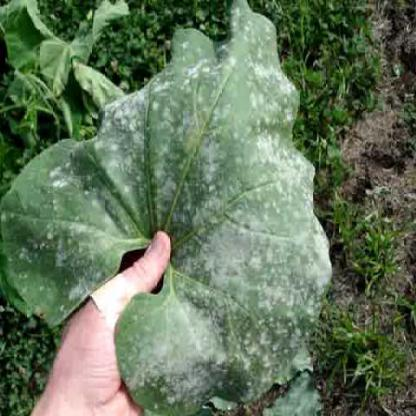Squash Powdery mildew leaf: (11, 1, 328, 404)
